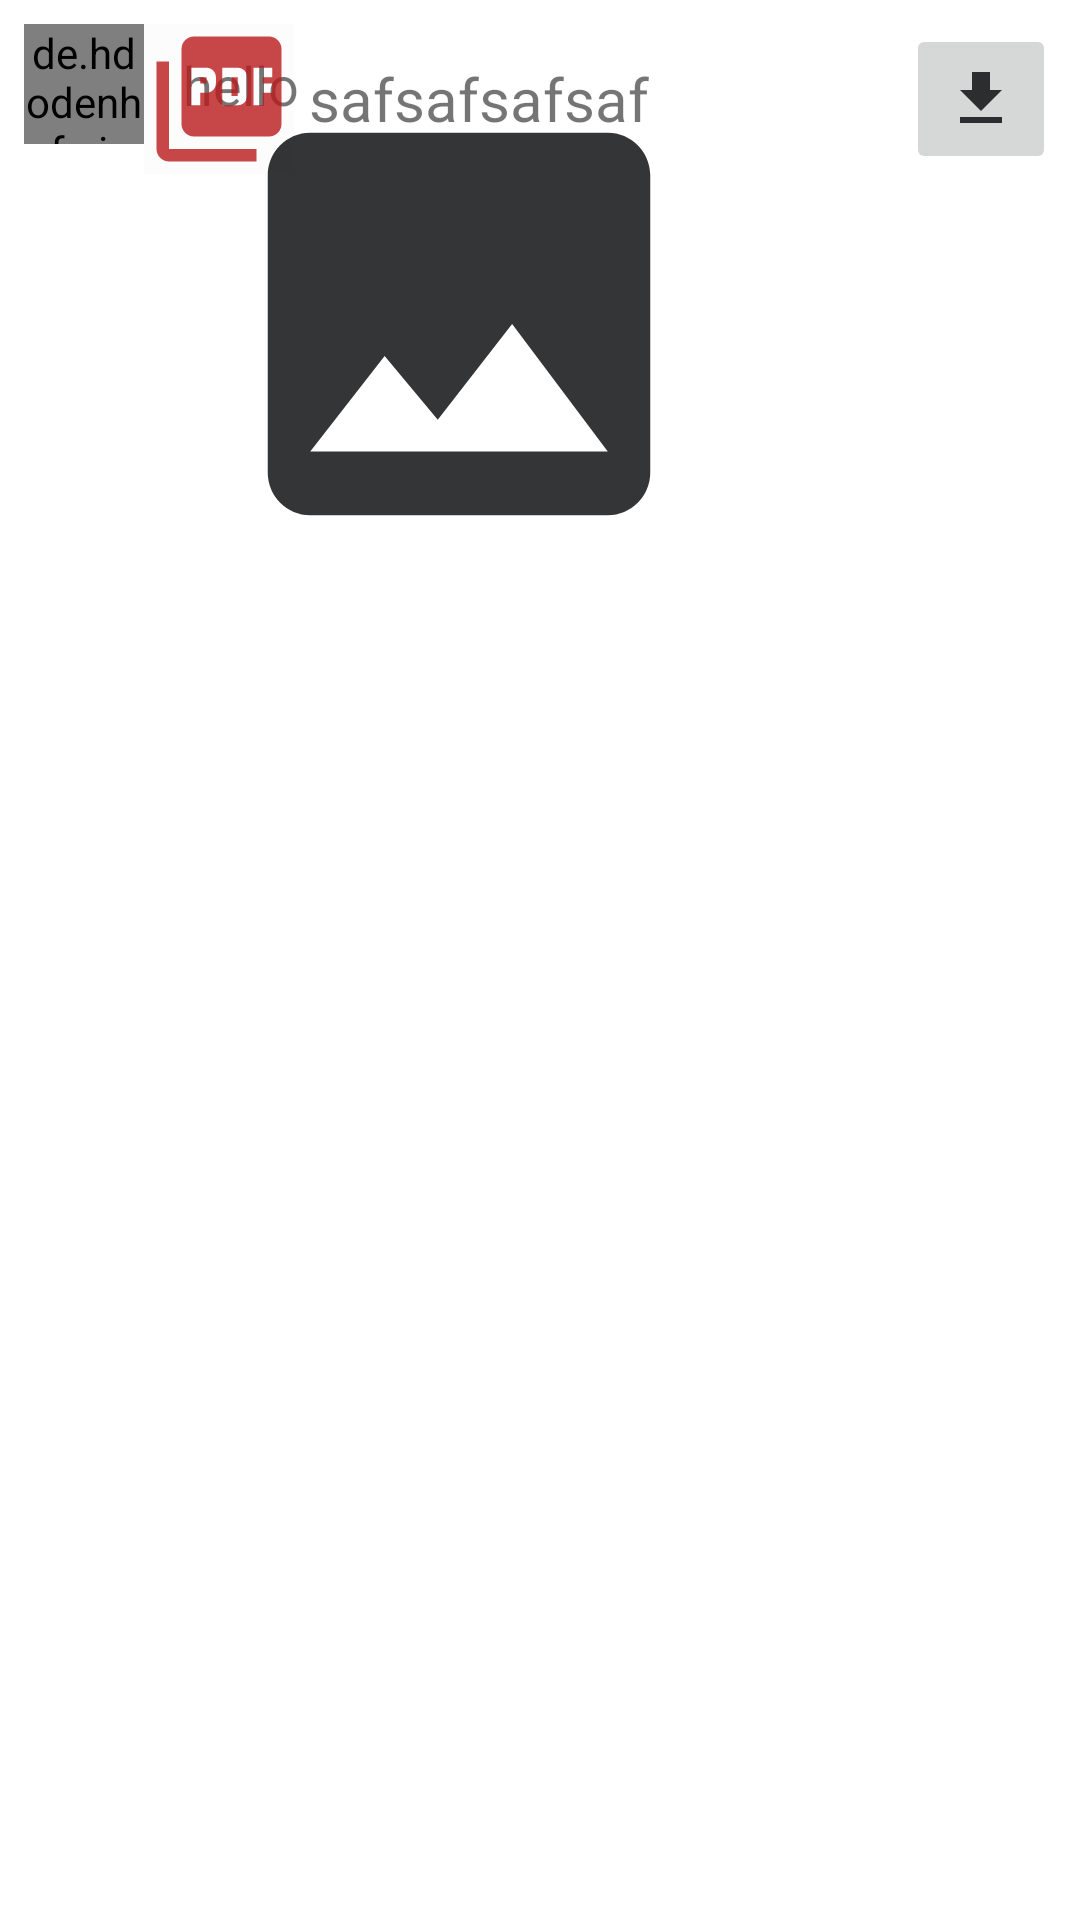

Named icons in this screenshot (1080px×1920px) and their centers, [x,y]:
down: [981,99]
